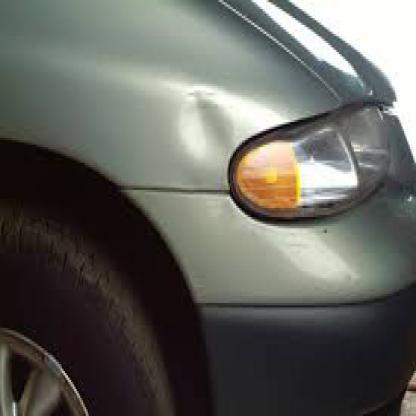dent: (174, 80, 236, 166)
